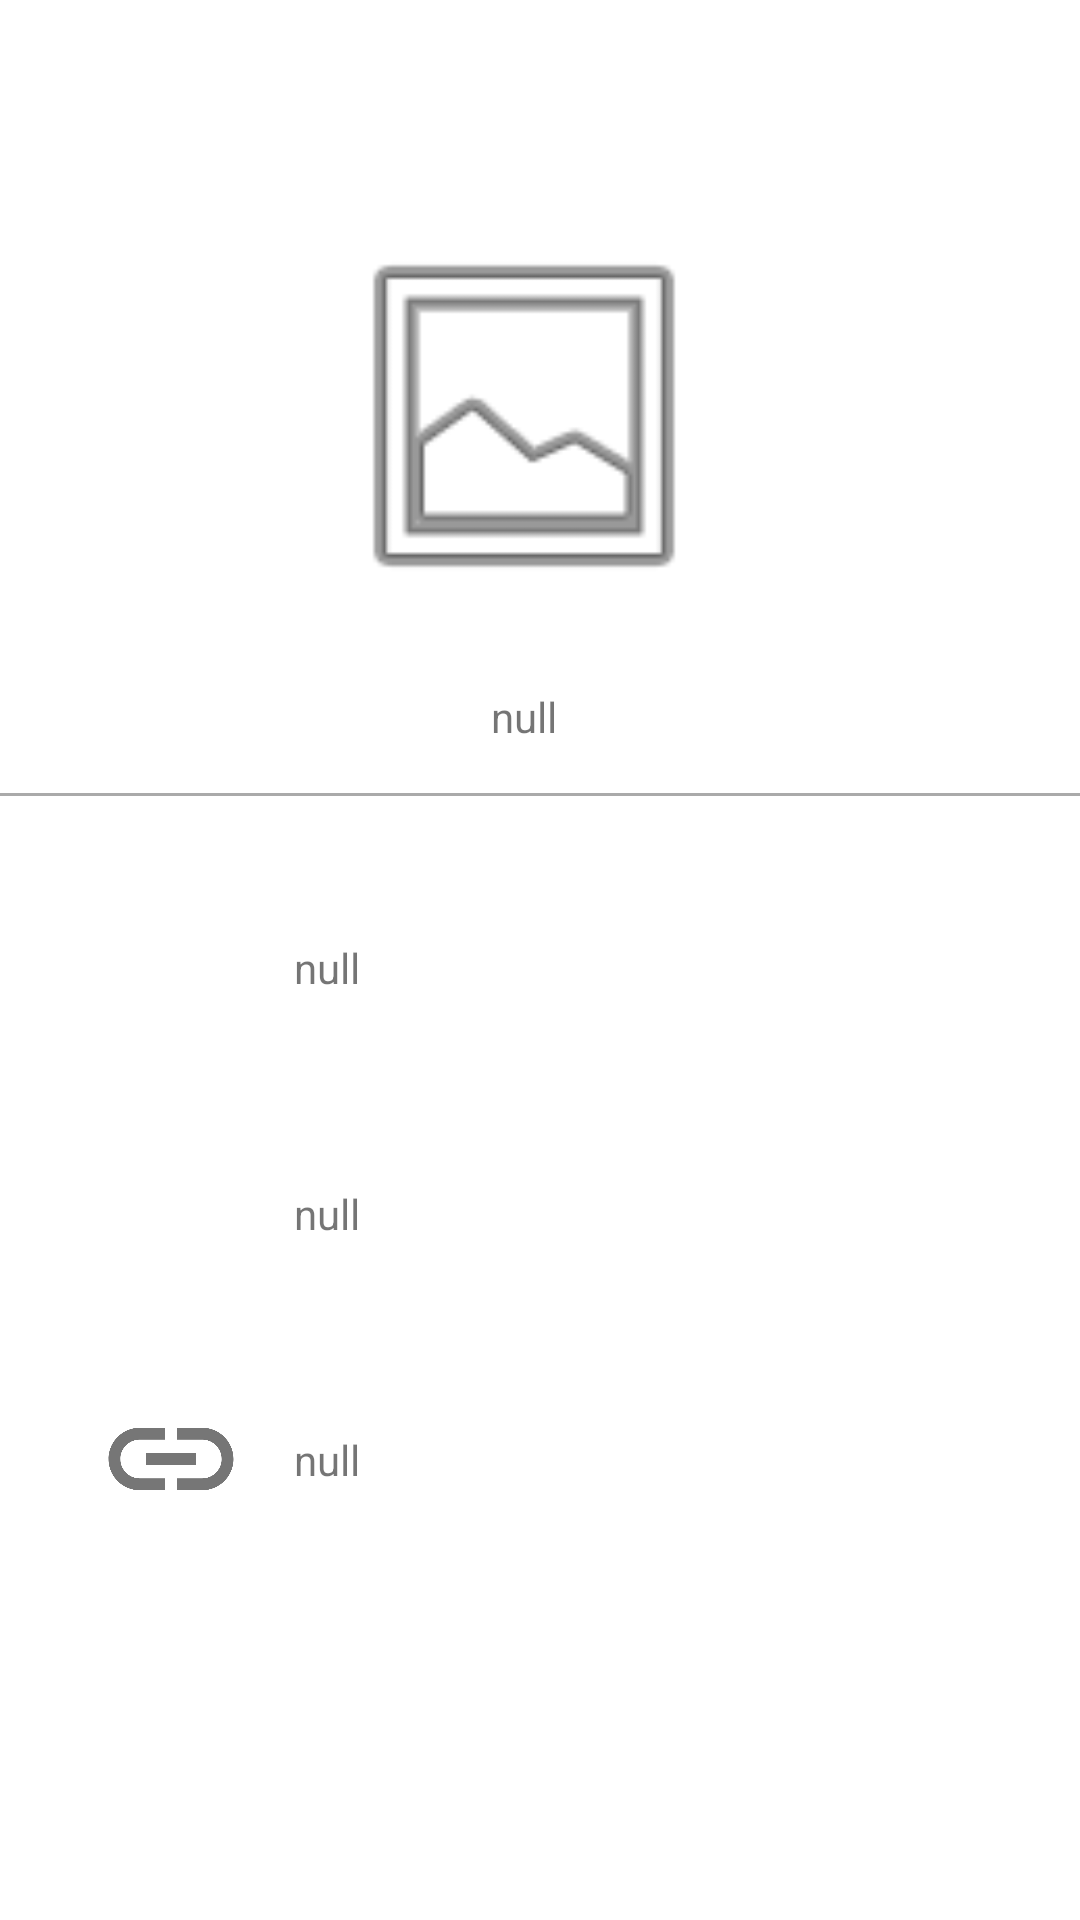

Point at icon controls on the screen. Image size 1080px x 1920px, points as (x=x, y=y).
gallery: (x=524, y=416)
link: (x=171, y=1459)
